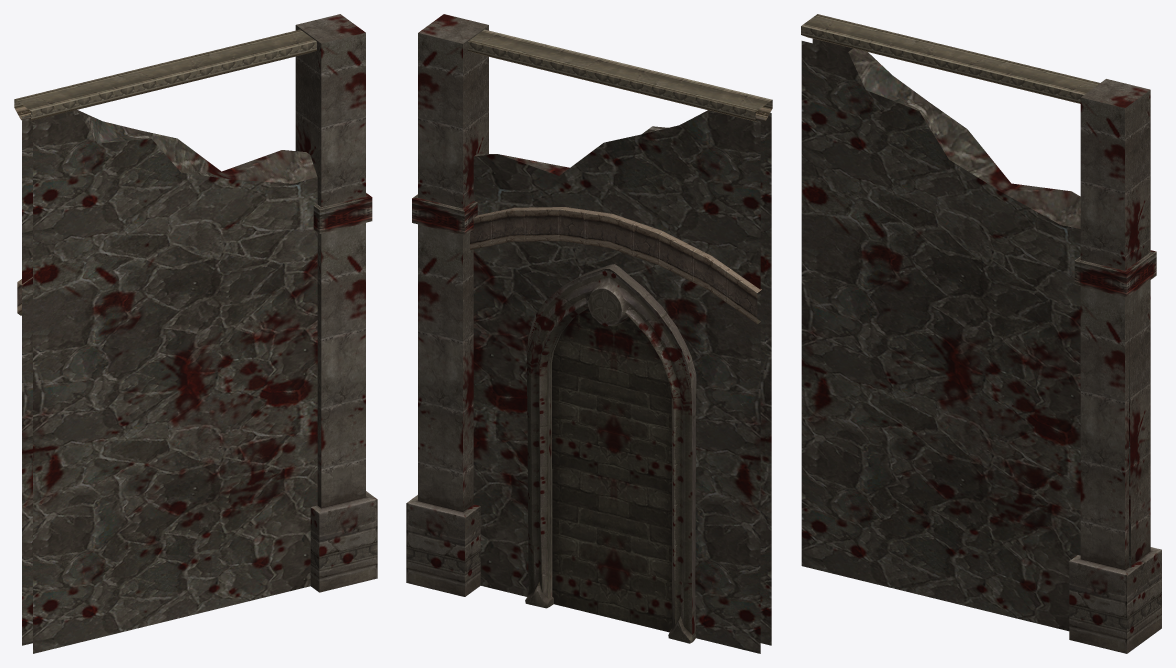
File: blsd_shiqiang_07.FBX
3 views of the same model, side by side, from view 1: azimuth 30°, elevation 25°; view 2: azimuth 150°, elevation 25°; view 3: azimuth 330°, elevation 25° (orthographic).
Parts seen in each view (by area): view 1: blsd_shiqiang_07; view 2: blsd_shiqiang_07; view 3: blsd_shiqiang_07.
Boxes of the visible parts, box(x1,y1,x2,y2) form: blsd_shiqiang_07: box(14, 14, 377, 653); blsd_shiqiang_07: box(406, 14, 772, 653); blsd_shiqiang_07: box(801, 14, 1161, 653).
Size of the model in its own units: 325 by 501 by 58.71.
